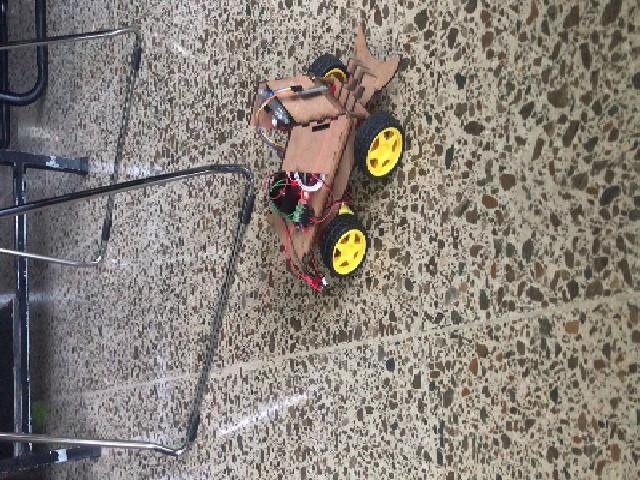Robot: (248, 22, 405, 283)
